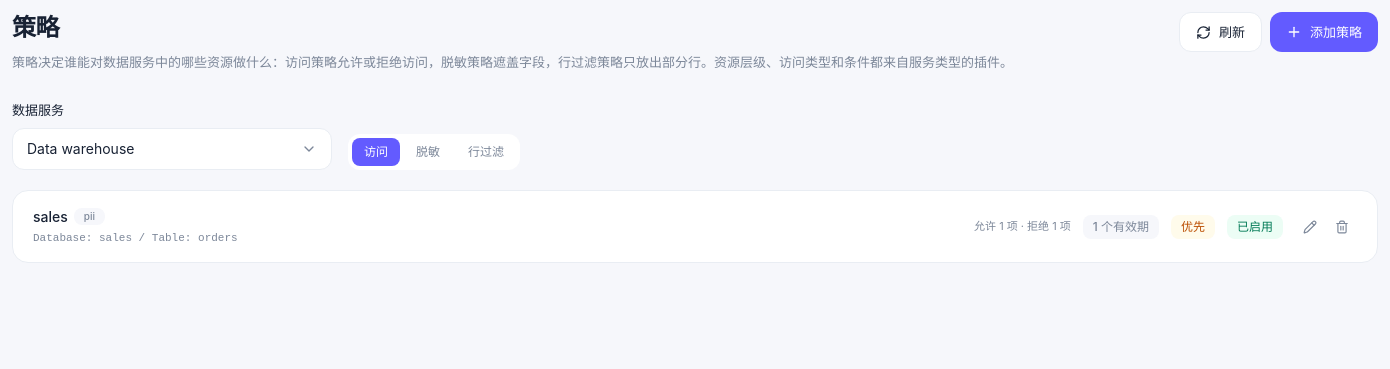
policies view › lists the policies of a service by kind
The width and height of the screenshot is (1390, 369).
Expected: the element with test id "sales" shows "Database: sales / Table: orders", top-left (33, 232), bottom-right (238, 244)
Expected: the element with test id "sales" shows "允许 1 项 · 拒绝 1 项", top-left (974, 219), bottom-right (1071, 233)
Click the button "脱敏" at (428, 152), box top-left (404, 138), bottom-right (452, 166)
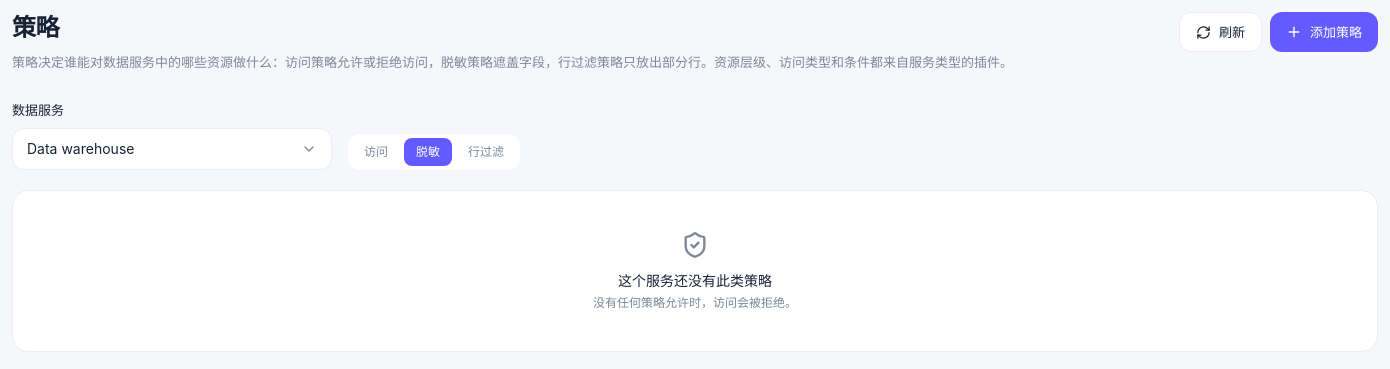
Expected: the text "这个服务还没有此类策略" is shown, top-left (618, 271), bottom-right (772, 291)
